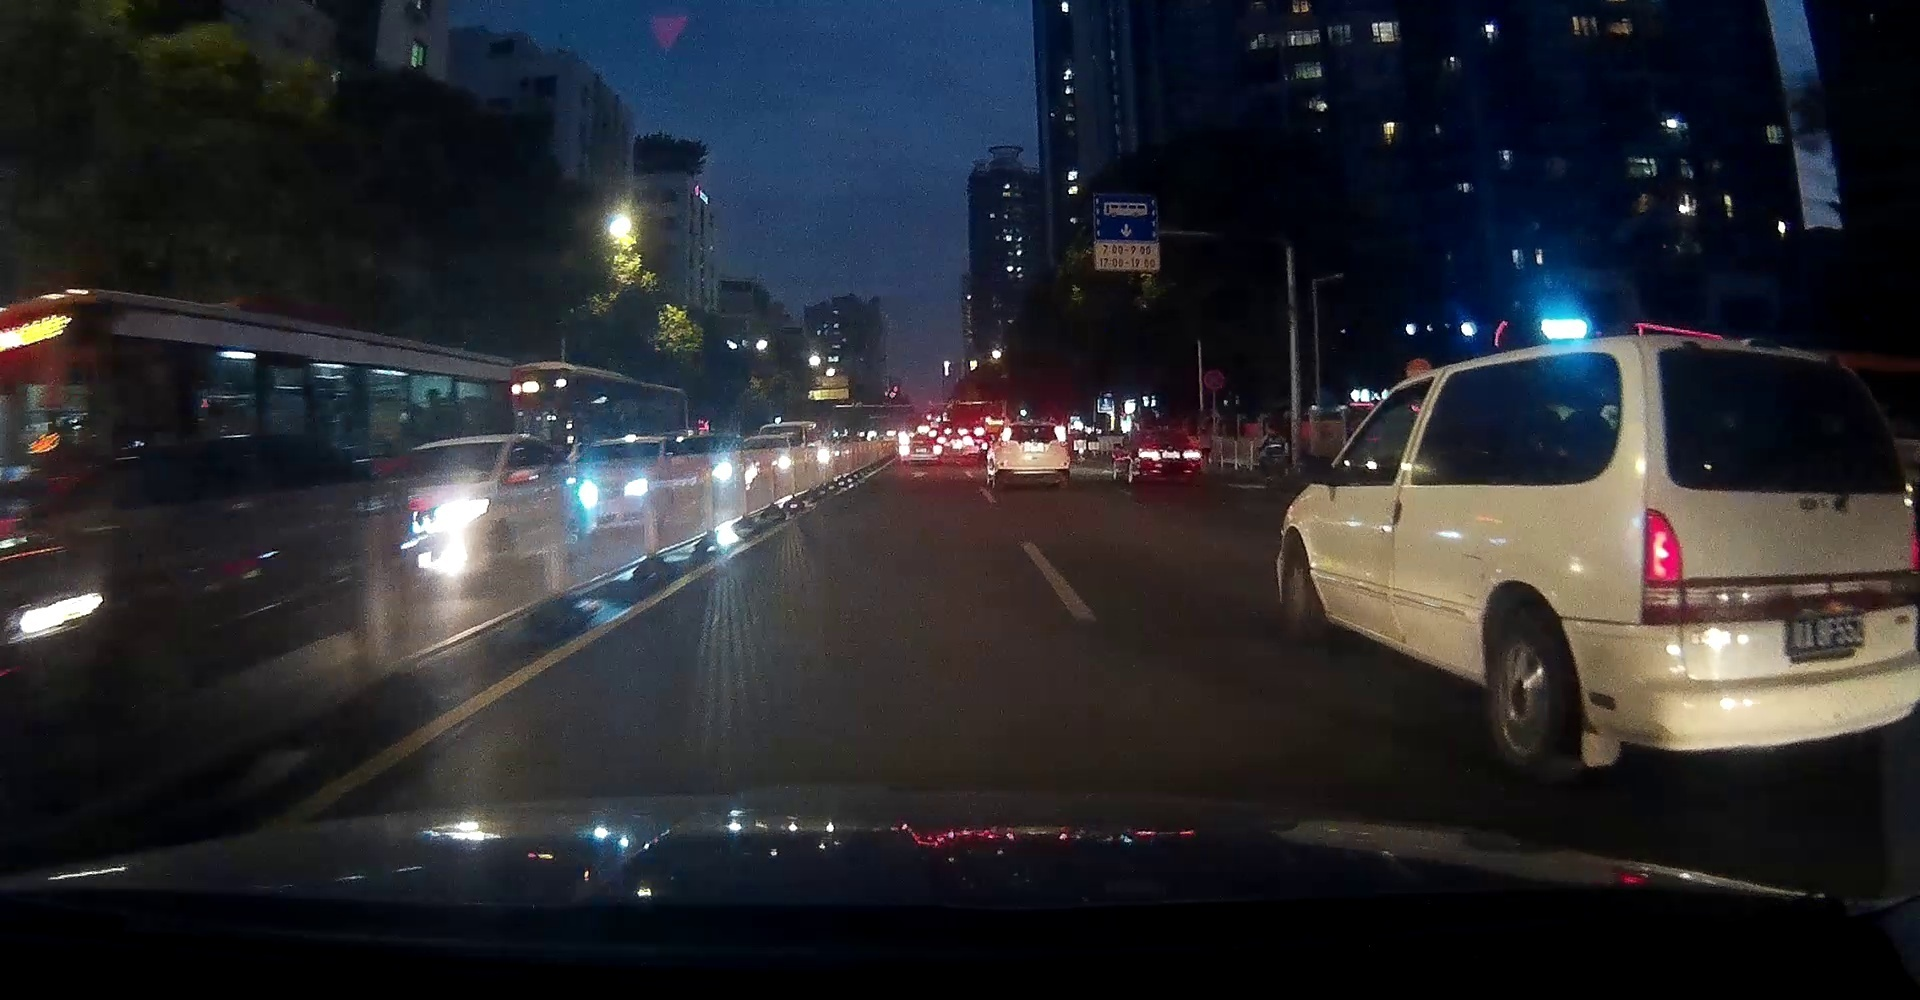L_light: (1643, 508, 1683, 586), (999, 442, 1010, 449), (1134, 449, 1144, 456)
R_light: (1907, 508, 1920, 569), (1191, 451, 1203, 457), (1057, 440, 1067, 445)
T_light: (1771, 355, 1790, 365), (1164, 428, 1173, 431), (1032, 426, 1040, 430)
night-no: (1638, 338, 1920, 782), (999, 423, 1070, 490), (1133, 426, 1203, 487)
